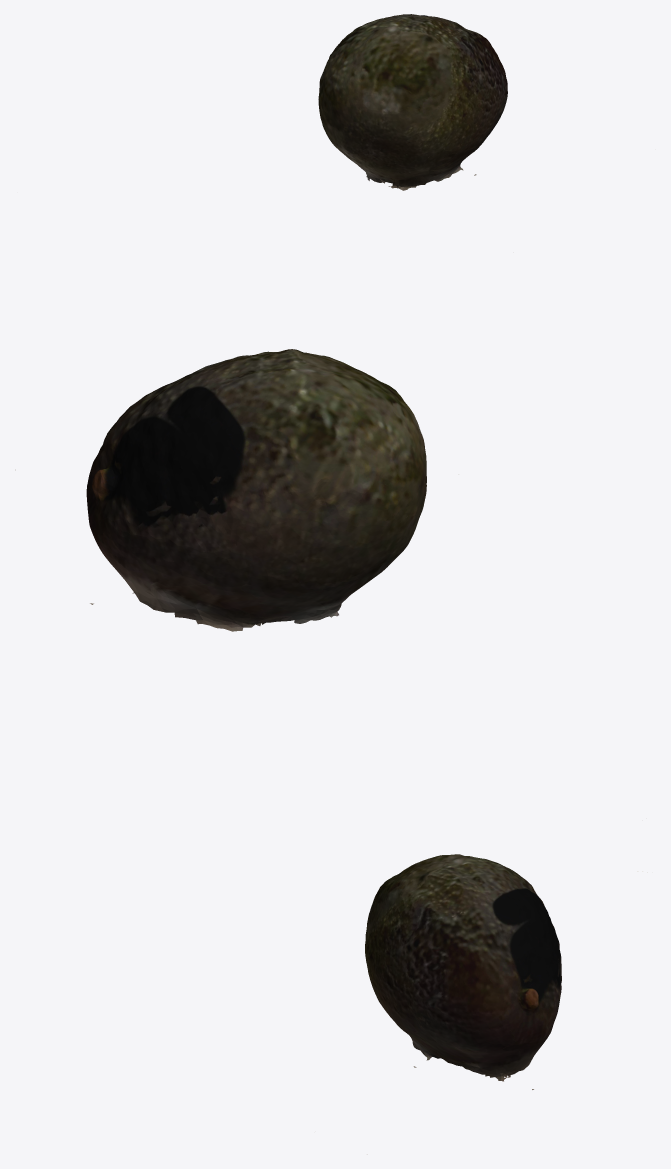
Rendered from avocado_scansione.glb.
3 renders of one model, top to bottom at view 1: azimuth 30°, elevation 25°; view 2: azimuth 150°, elevation 25°; view 3: azimuth 270°, elevation 25°, orthographic. The views are drawn at different scales.
Visible parts, largest first — view 1: Mesh_0.053; view 2: Mesh_0.053; view 3: Mesh_0.053, Mesh_0.002.
Boxes of the visible parts, x1,y1,x2,y2 form: Mesh_0.053: [318, 14, 507, 190]; Mesh_0.053: [15, 349, 458, 631]; Mesh_0.053: [365, 854, 647, 1154]; Mesh_0.002: [410, 1036, 533, 1089].
Bounding box in the file's own units: 0.2543 × 0.0722 × 0.2378.
Materials: 1 (1 with a texture image).
